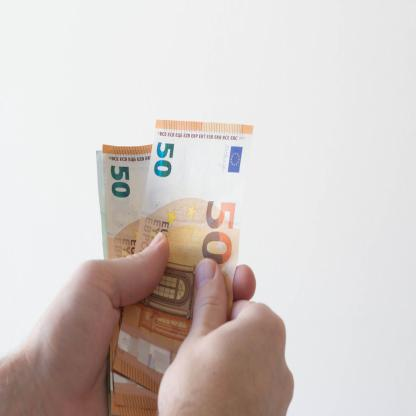billete: (95, 116, 254, 416)
